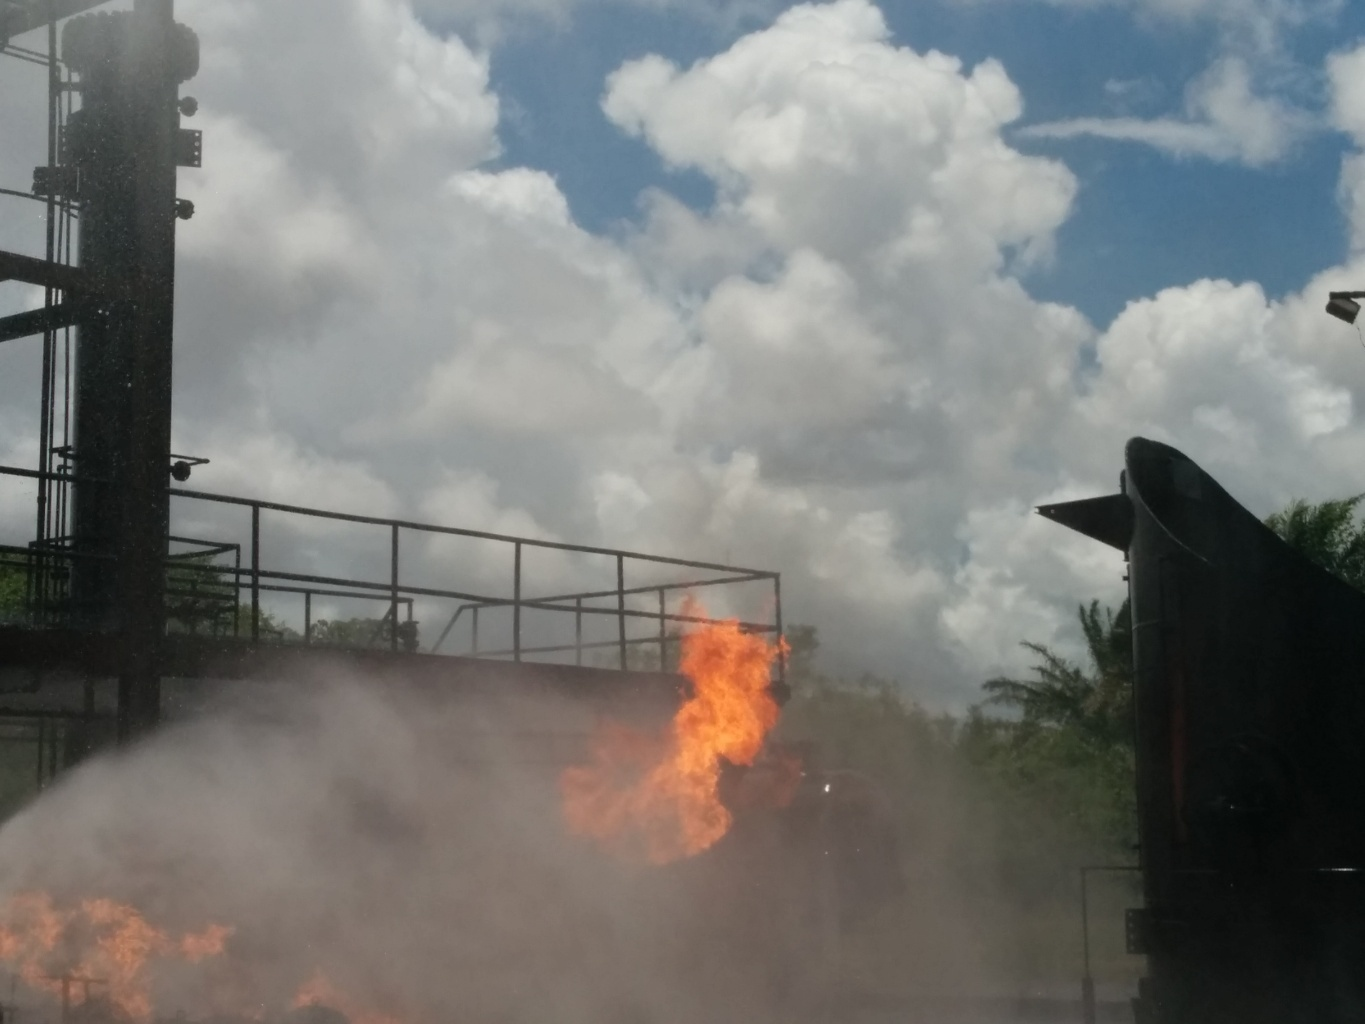fire: (557, 593, 804, 864), (0, 874, 241, 1016)
